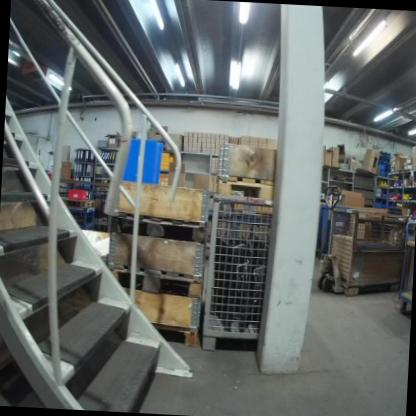pallet: (108, 206, 208, 245), (105, 261, 204, 299), (215, 174, 271, 198)
pallet_truck: (315, 182, 348, 295), (68, 143, 97, 200)
small_load_carrier: (118, 137, 164, 186), (66, 185, 88, 202)
stillage: (200, 195, 276, 351), (322, 202, 411, 300)
